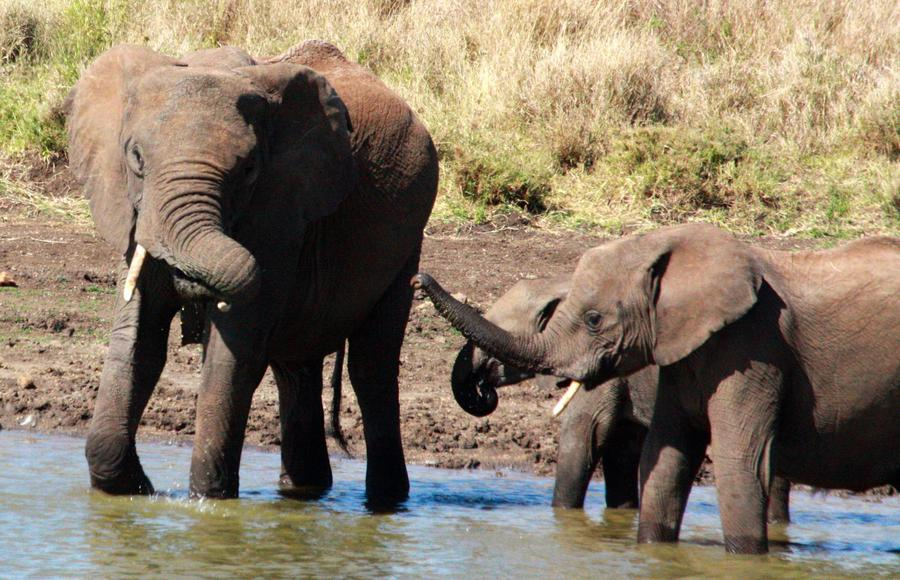elephant: (70, 51, 338, 306)
